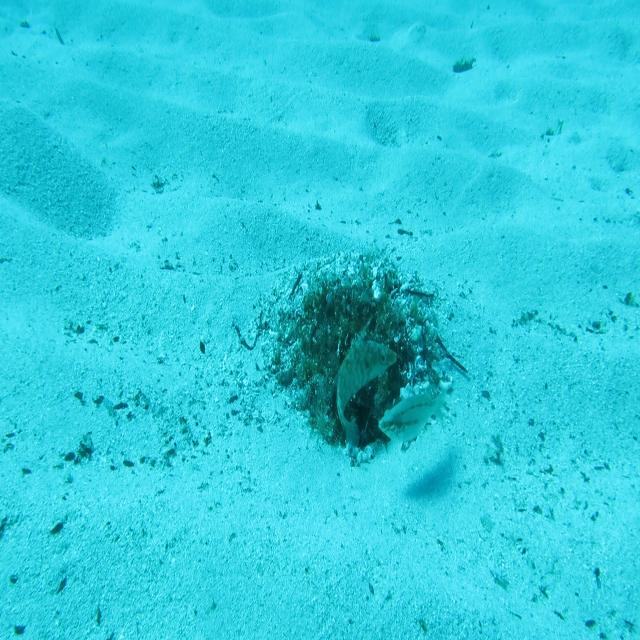DAN_CIRC: (332, 327, 398, 451)
core_nest: (329, 295, 369, 346)
female: (378, 387, 448, 447)
nest: (255, 240, 458, 477)
vegetation: (451, 56, 477, 77)
